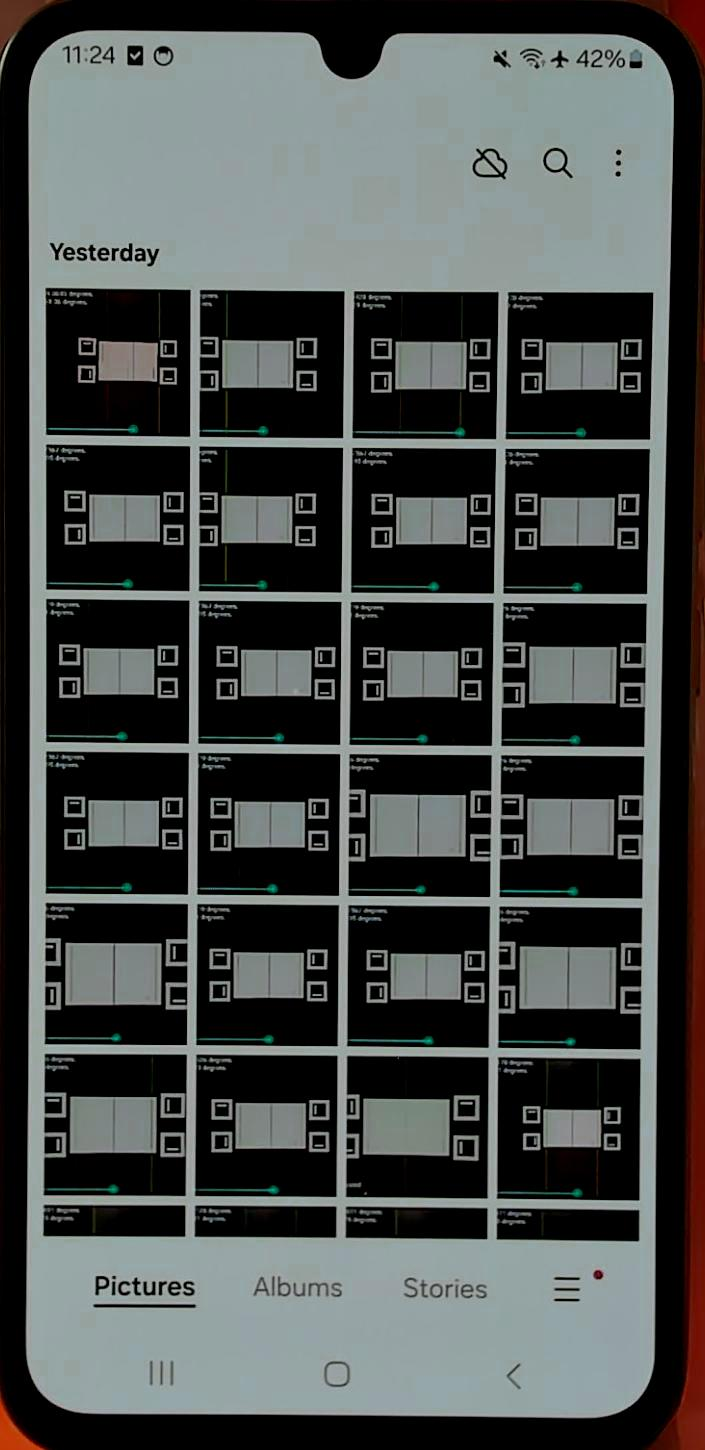CommunBotton: (350, 276, 502, 446), (42, 282, 193, 440), (192, 746, 344, 894), (85, 1266, 207, 1311), (253, 1268, 349, 1307), (398, 1272, 496, 1307), (312, 1349, 358, 1396), (467, 138, 509, 184), (538, 142, 580, 187), (141, 1349, 184, 1391), (499, 1354, 530, 1397)
menu: (544, 1263, 606, 1312), (608, 140, 629, 189)
